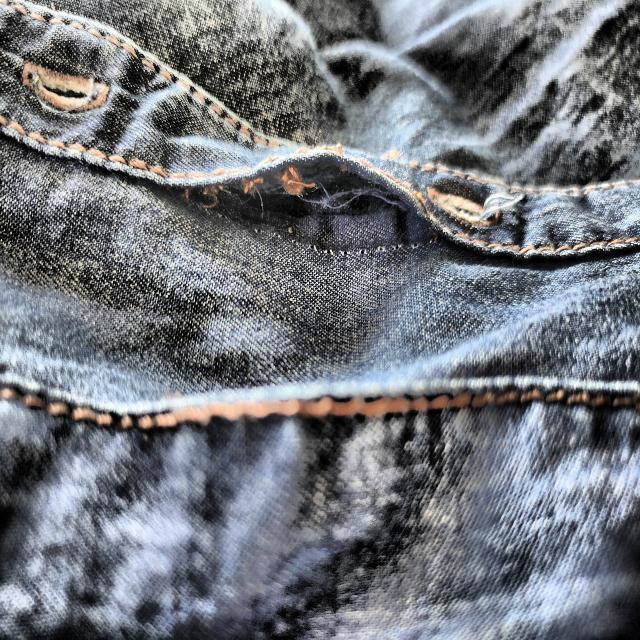gray stitch: (155, 134, 452, 261)
